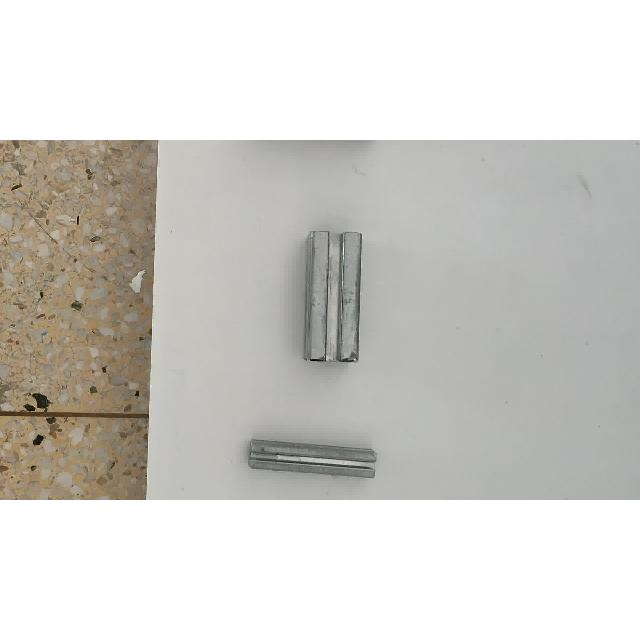F20_20_G: (246, 438, 378, 479)
S40_40_G: (302, 228, 364, 364)
